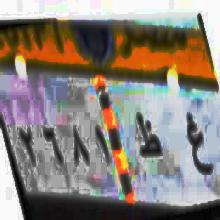1: (92, 123, 111, 166)
2: (20, 122, 37, 172)
6: (42, 121, 65, 172)
8: (71, 126, 90, 174)
Thaa: (135, 110, 163, 170)
ghayn: (183, 105, 213, 184)
